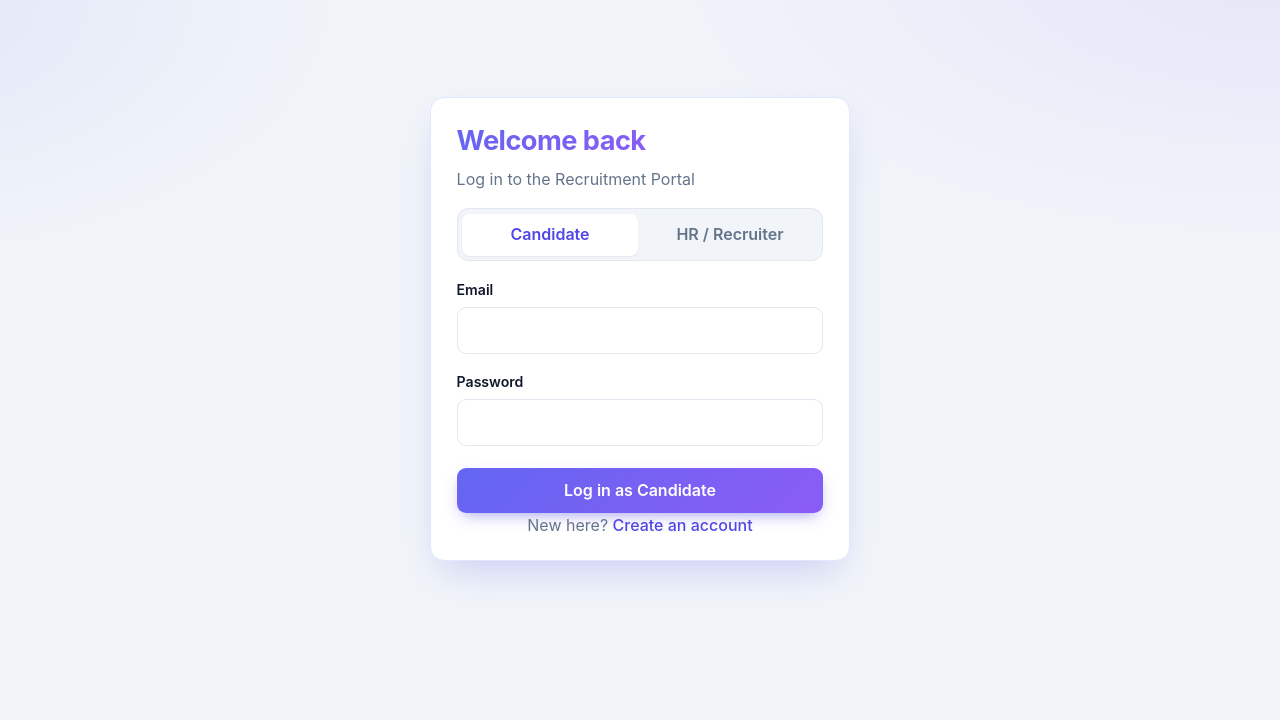
Test: Login page › rejects an invalid email before hitting the API
Type "not-an-email" into the field labelled "Email". click: (640, 331)
box: 457,307 -> 823,354
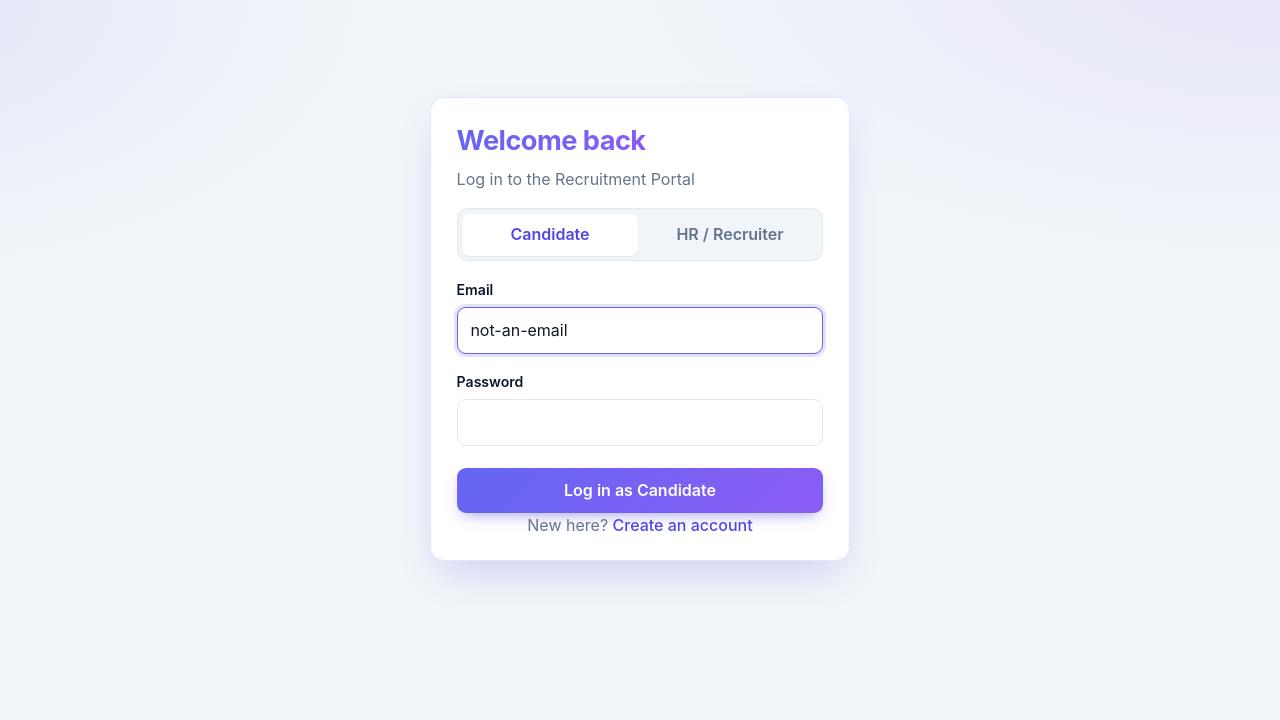
Type "Whatever1" into the password field labelled "Password". click: (640, 422)
box: 457,399 -> 823,446
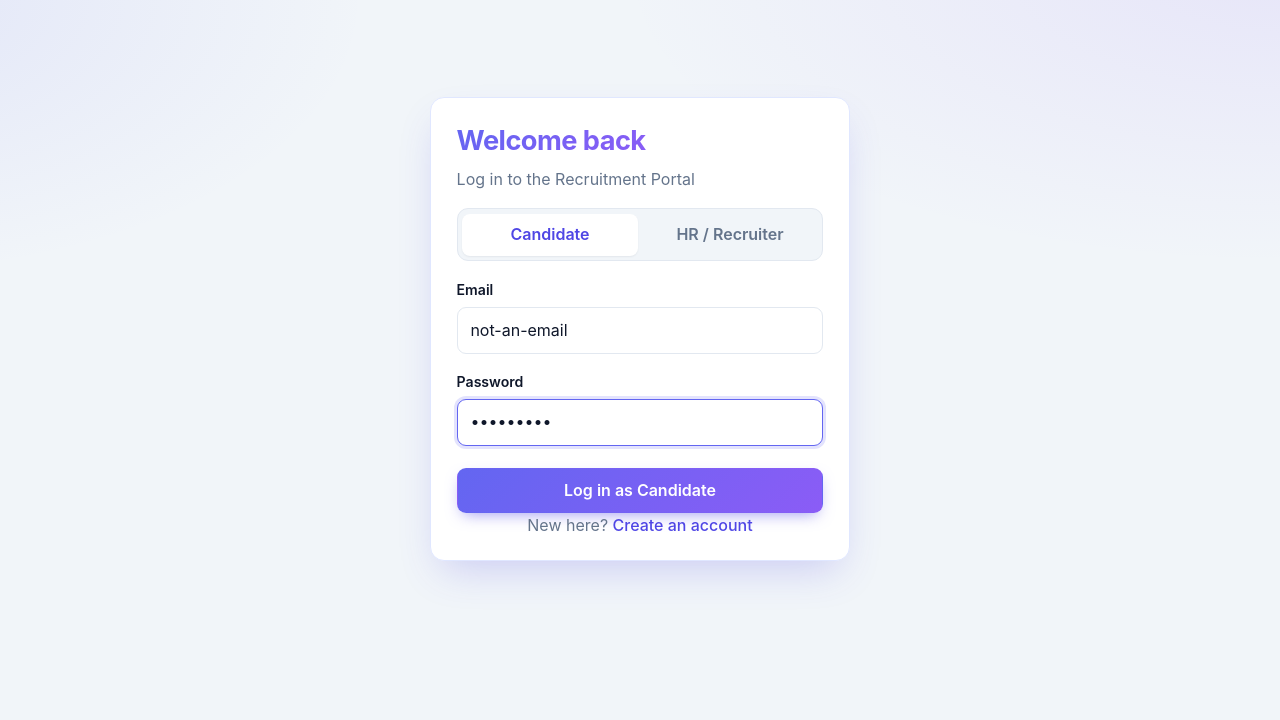
Click the button "Log in as Candidate". click: (640, 491)
box: 457,468 -> 823,513
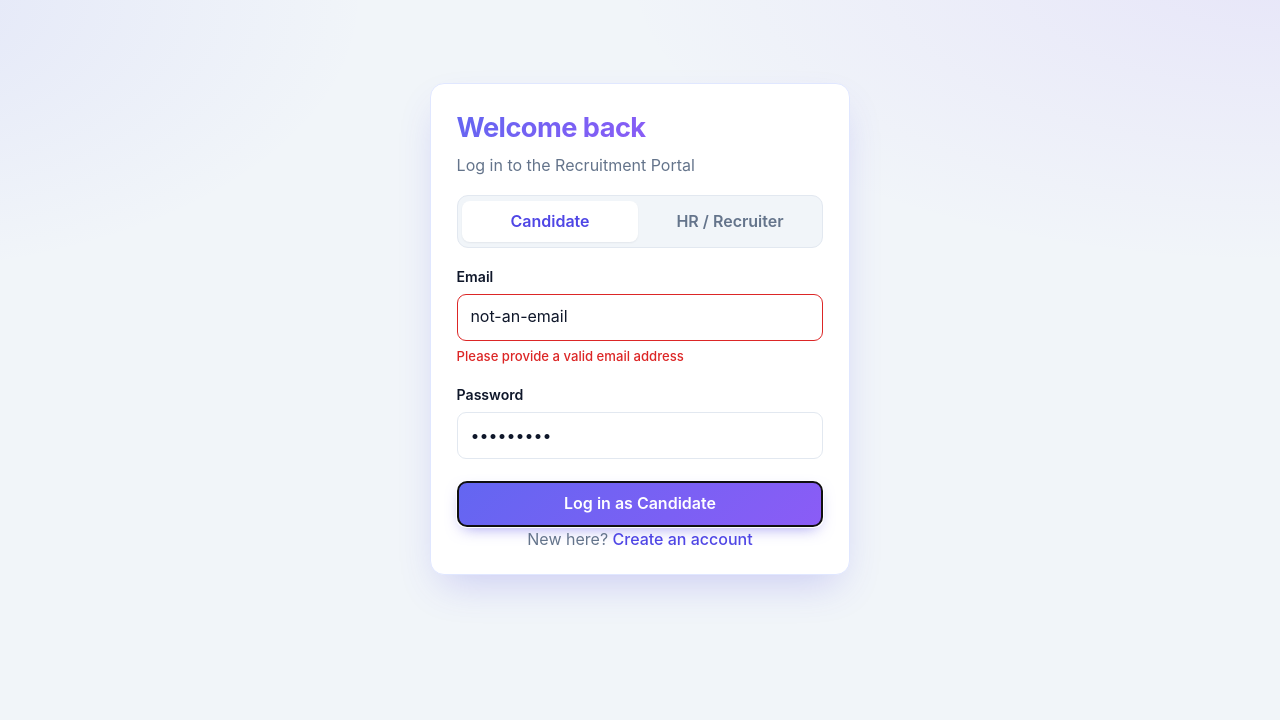
Check: the text "Please provide a valid email address" is shown, box 457,348 -> 684,364
